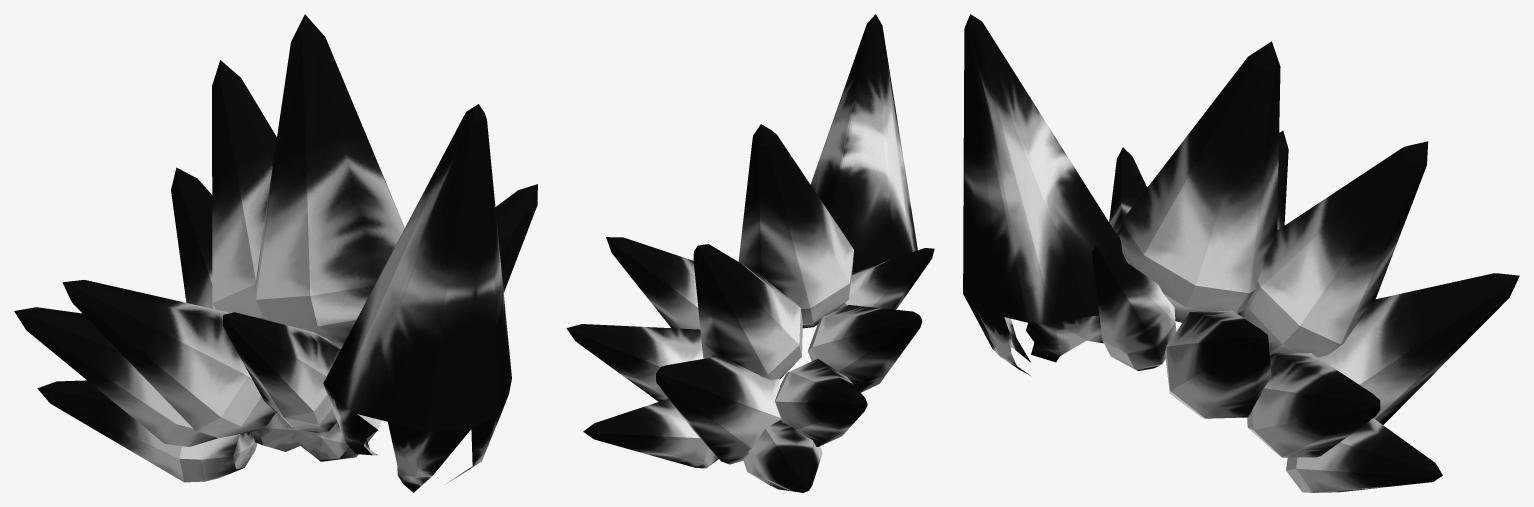
Rendered from 0103_Mesh_chuanshanwang_01.glb.
The picture shows the model from 3 angles, left to right: view 1: azimuth 30°, elevation 25°; view 2: azimuth 150°, elevation 25°; view 3: azimuth 270°, elevation 25°; orthographic projection. The views are drawn at different scales.
Bounding box in the file's own units: 1.89 × 2 × 2.2.
Materials: 1 (1 with a texture image).
